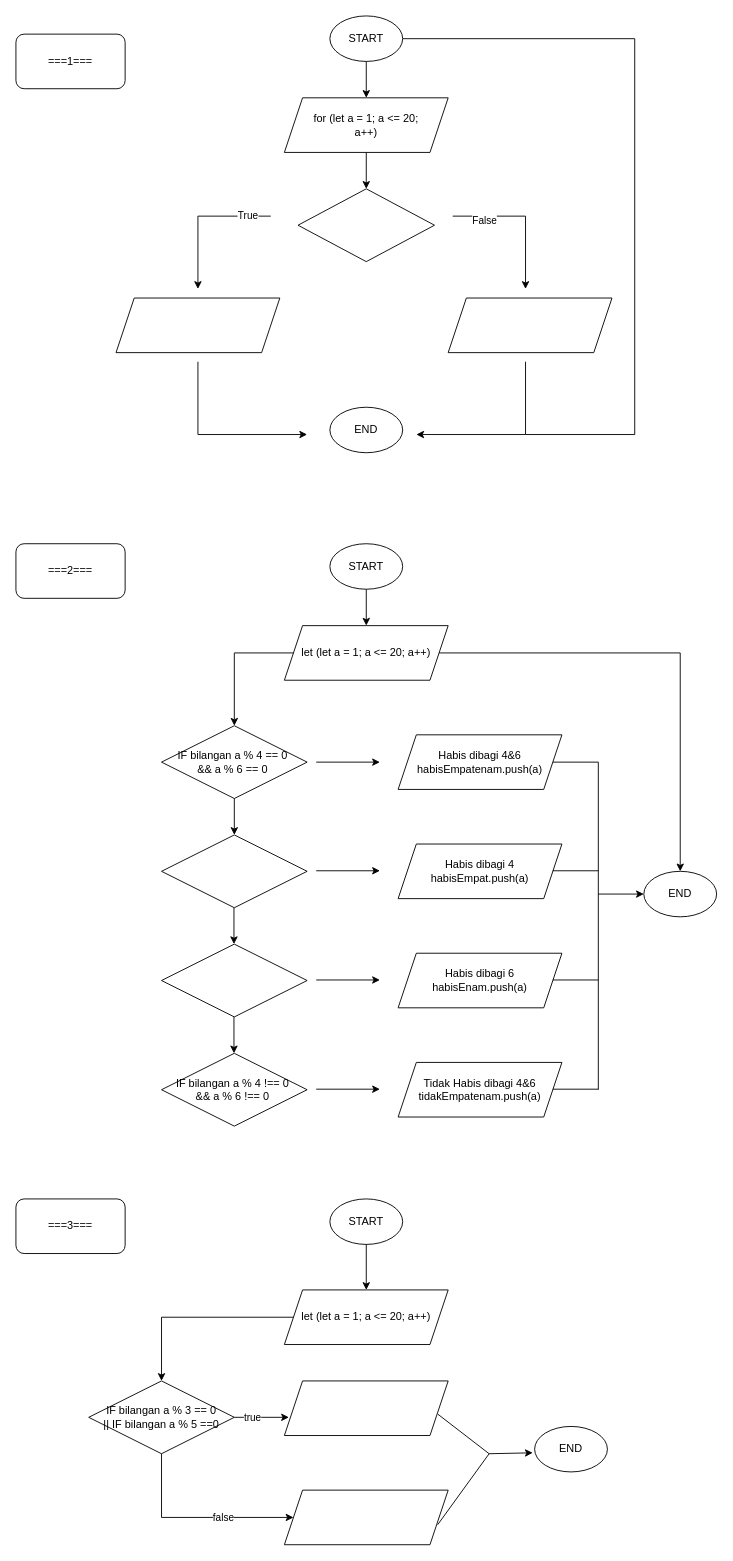
Image size: 733x1561. Some labels were removed from this diagram. The centre of each missing label's shape, as x and y in pixels:
"bilangan ganjil angkaGanjil.push(a)" belongs at (x=529, y=325).
"bilangan genap angkaGenap.push(a)" belongs at (x=197, y=325).
"bilangan habis dibagi 3 atau 5 habisTIgalima.push(a)" belongs at (x=365, y=1408).
"bilangan tidak habis dibagi 3 dan 5 tidakTigalima.ush(a)" belongs at (x=365, y=1517).
"IF bilangan a % 2 == 0" belongs at (x=366, y=225).
"IF bilangan a % 4 == 0" belongs at (x=234, y=871).
"IF bilangan a % 6 == 0" belongs at (x=234, y=980).
